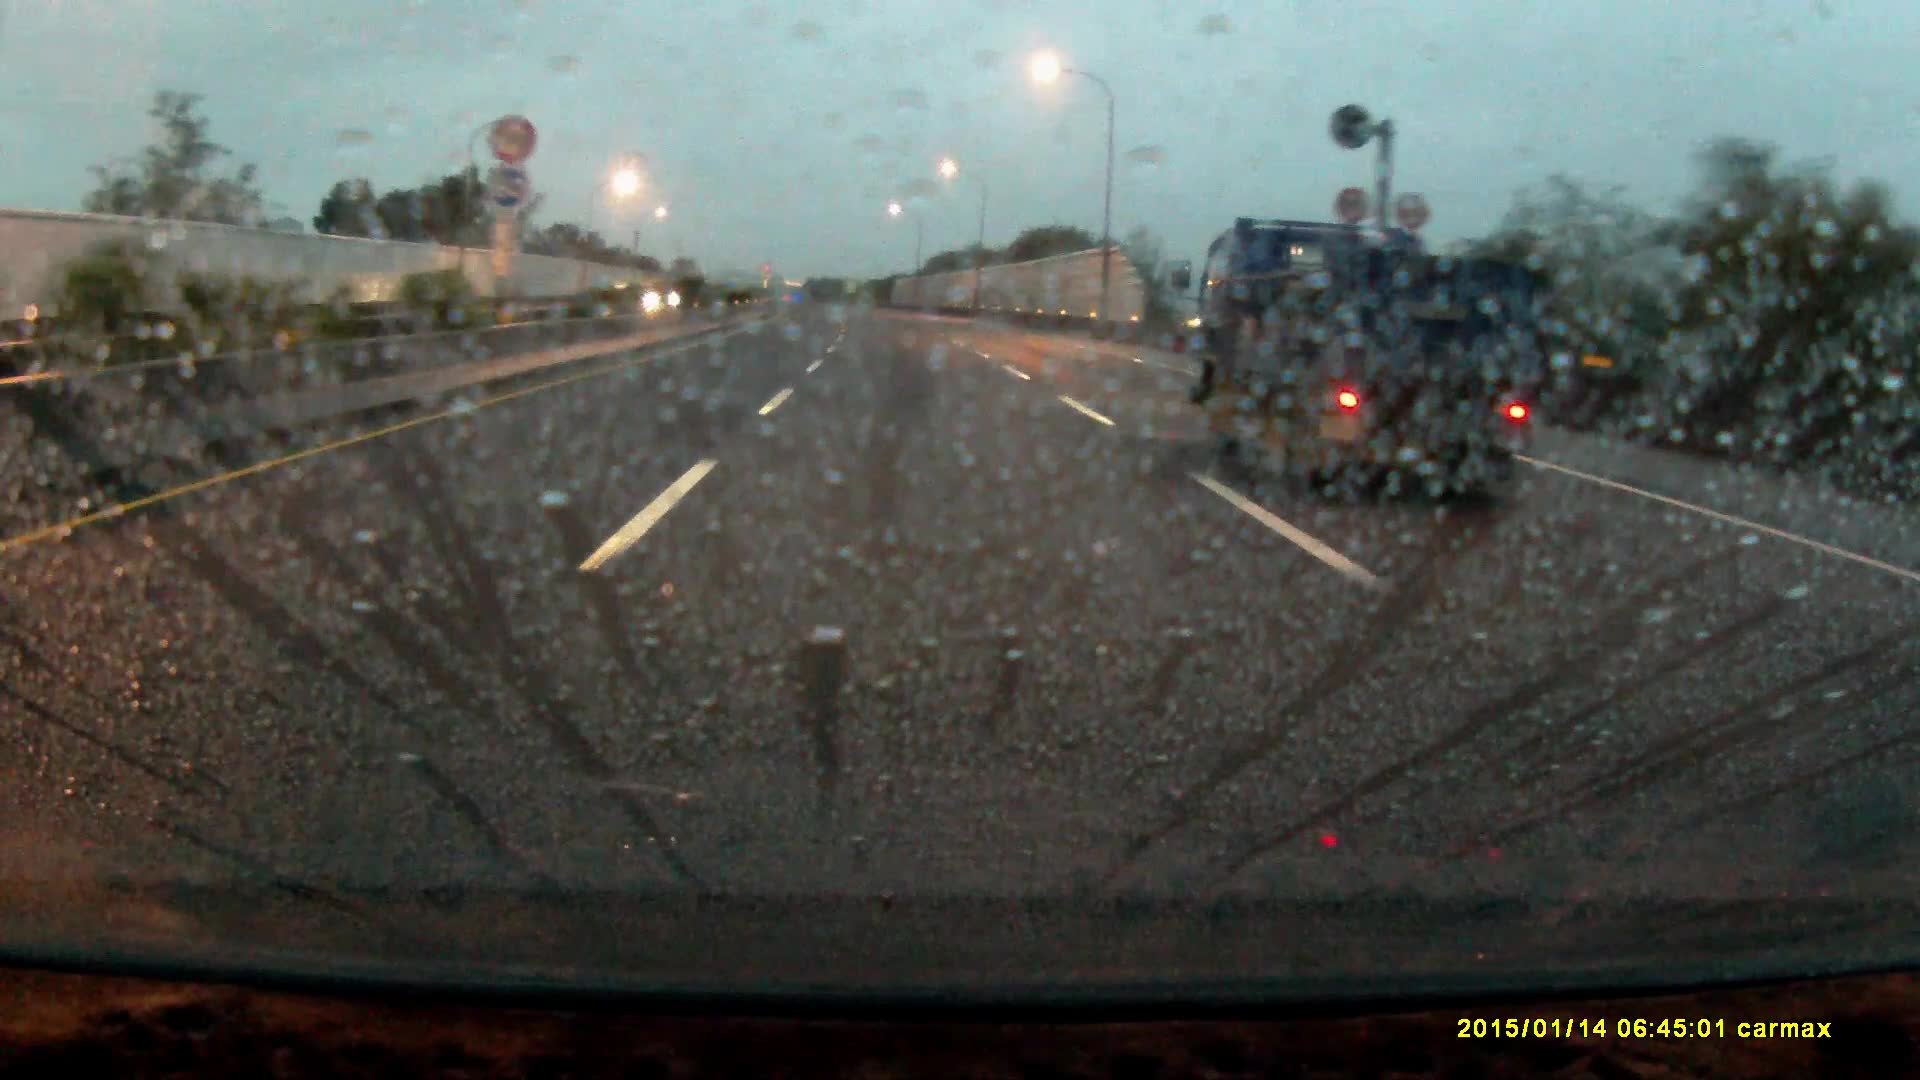vehicle: (1207, 204, 1559, 524)
